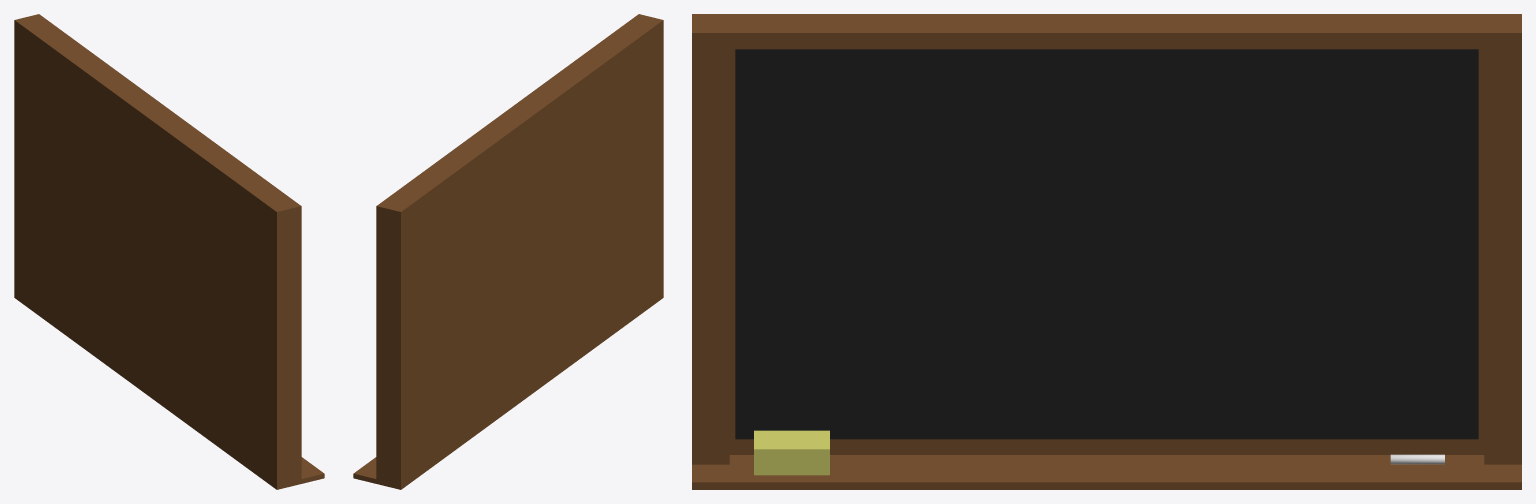
The model's file is blackboard.fbx.
3 views of the same model, side by side, from view 1: azimuth 30°, elevation 25°; view 2: azimuth 150°, elevation 25°; view 3: azimuth 270°, elevation 25° (orthographic). The views are drawn at different scales.
Visible parts, largest first — view 1: Plane; view 2: Plane; view 3: Plane, Cube.
Part boxes in pixels (left/top/right/bottom): Plane: left=14, top=14, right=324, bottom=489; Plane: left=353, top=14, right=663, bottom=489; Plane: left=692, top=14, right=1521, bottom=489; Cube: left=754, top=430, right=829, bottom=475.
Size of the model in its own units: 40.08 by 223 by 382.
